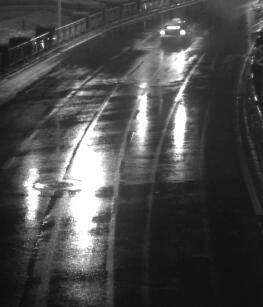car: (158, 16, 191, 44)
